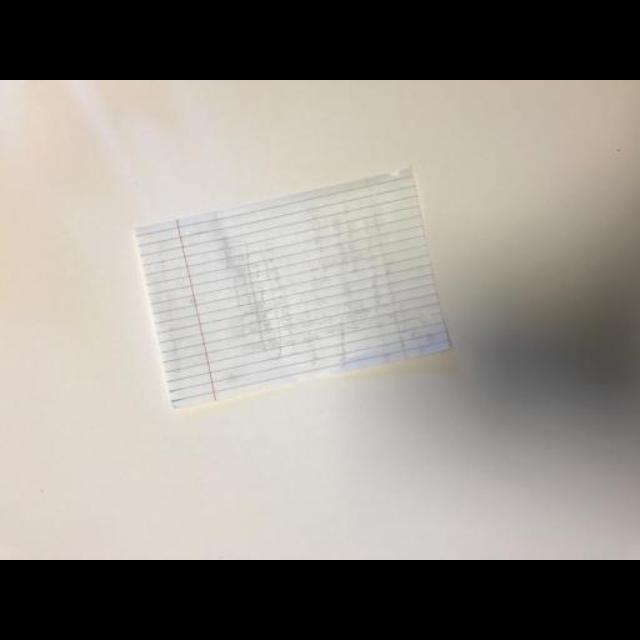papel: (136, 171, 450, 407)
